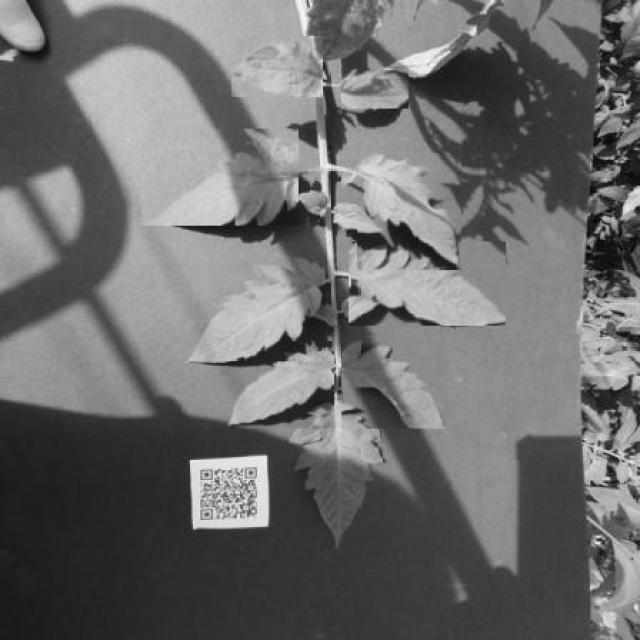Healthy: (184, 256, 326, 366), (142, 130, 298, 226), (293, 398, 383, 548), (349, 241, 505, 326), (357, 153, 462, 270), (342, 336, 448, 428), (228, 341, 335, 429), (232, 36, 322, 97), (340, 70, 409, 110)
